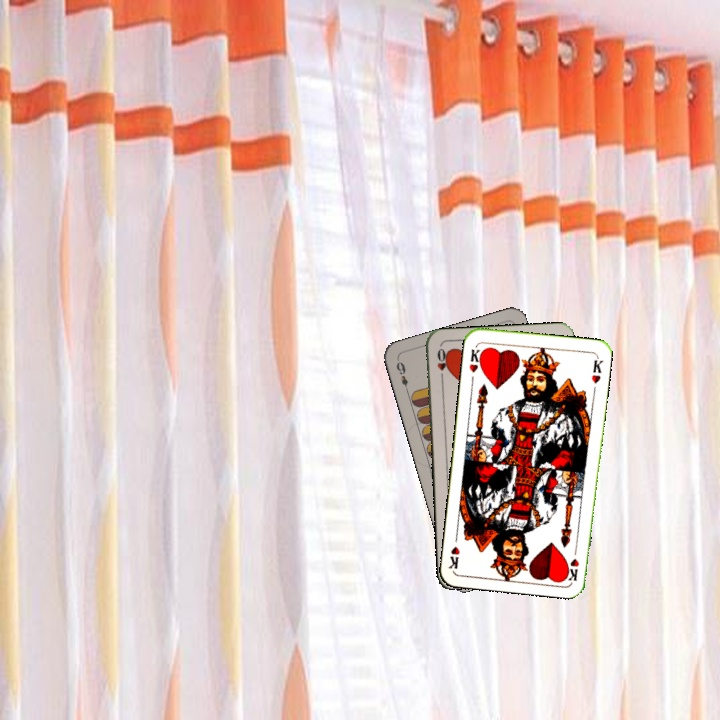E9: (392, 358, 411, 396)
HK: (564, 542, 582, 583), (465, 342, 486, 375)
HO: (433, 344, 450, 384)
